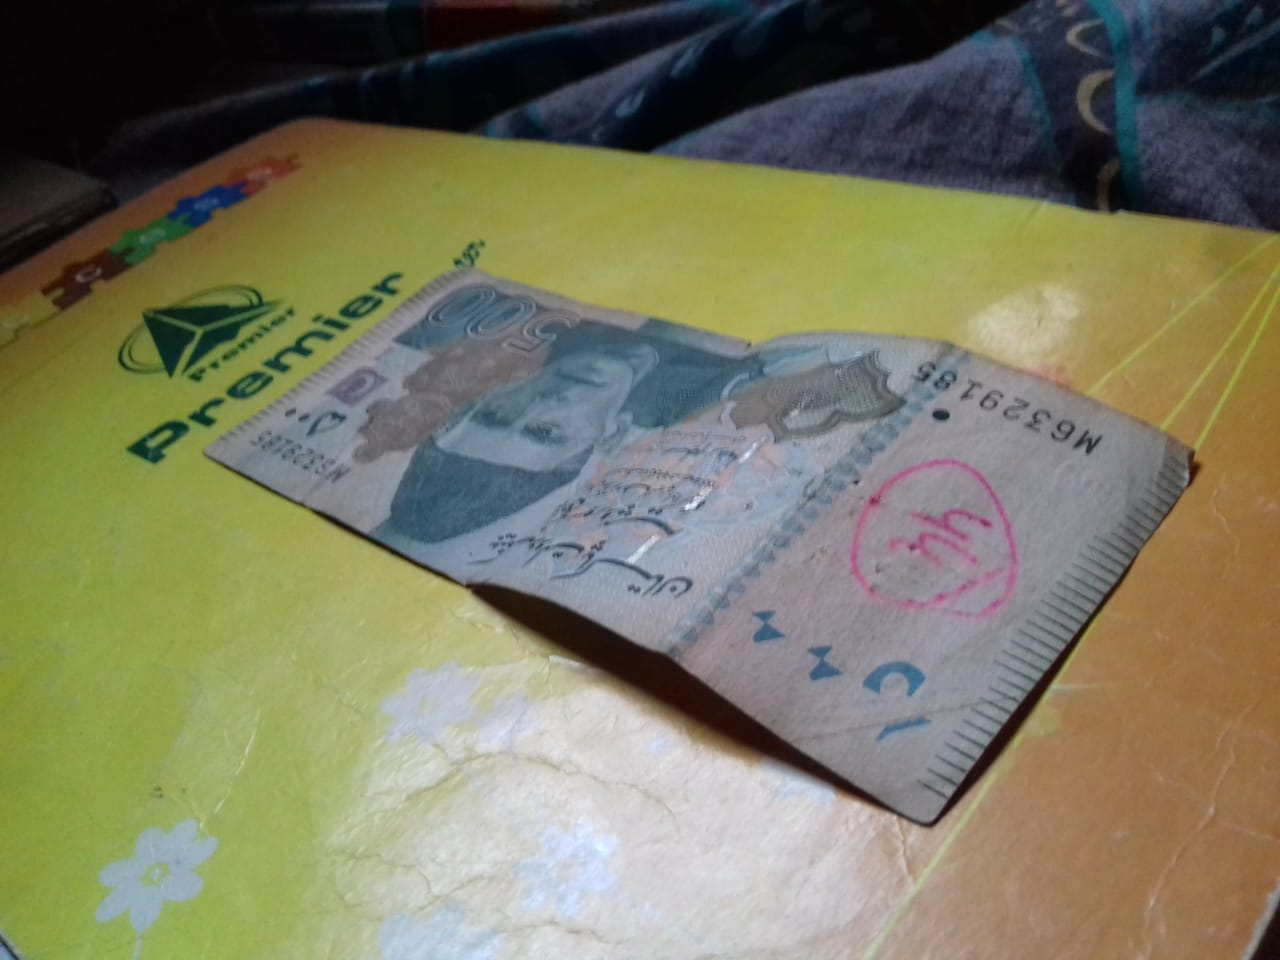500 rupee: (189, 282, 1206, 833)
